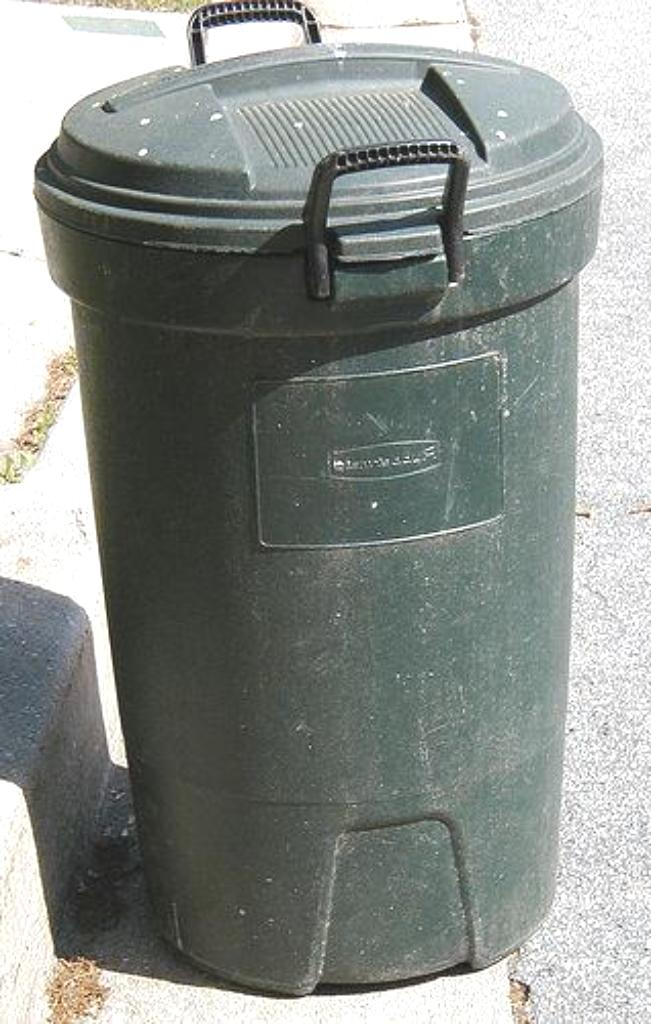dustbin: (49, 4, 599, 995)
